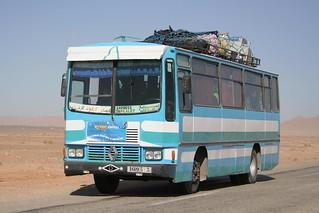bus: (62, 44, 278, 195)
